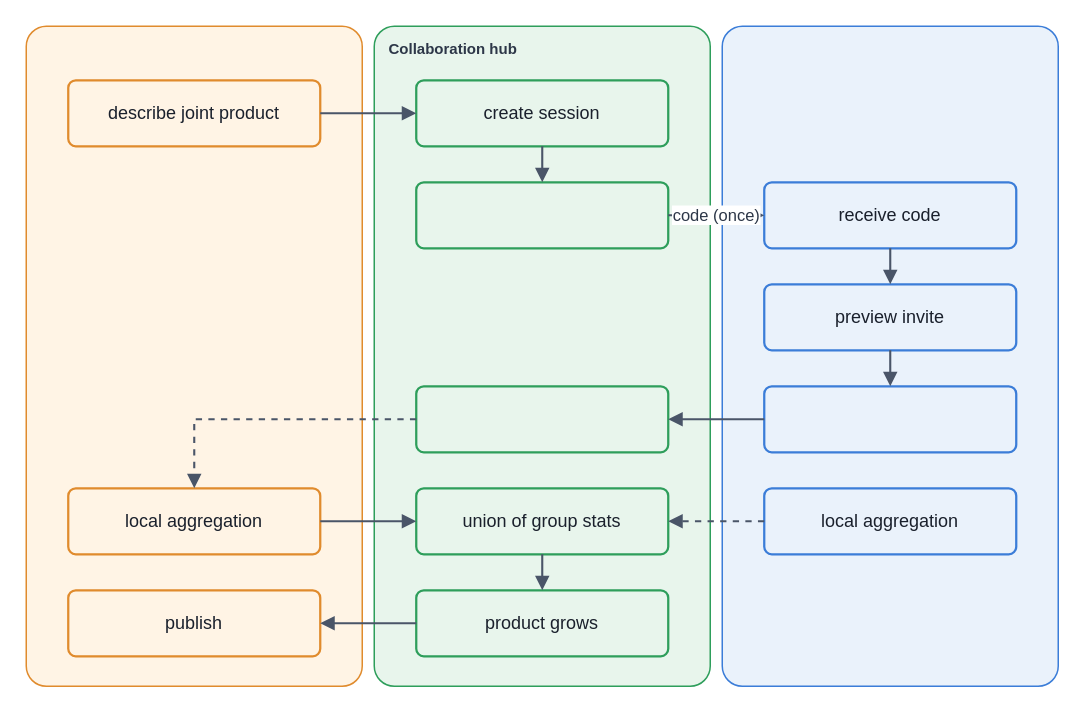
The diagram is 1085 pixels wide and 713 high, and some of its shapes have lost their labels. The shapes that lost their labels are listed below. From the top down, each one's box as (x1, y1, x2, y2) in pixels, then its label:
(414, 180, 669, 249): issue code + password
(25, 25, 362, 686): Initiator (Agent A)
(721, 25, 1058, 686): Member (Agent B)
(414, 384, 669, 453): verify code
(762, 384, 1017, 453): join + tick folder
